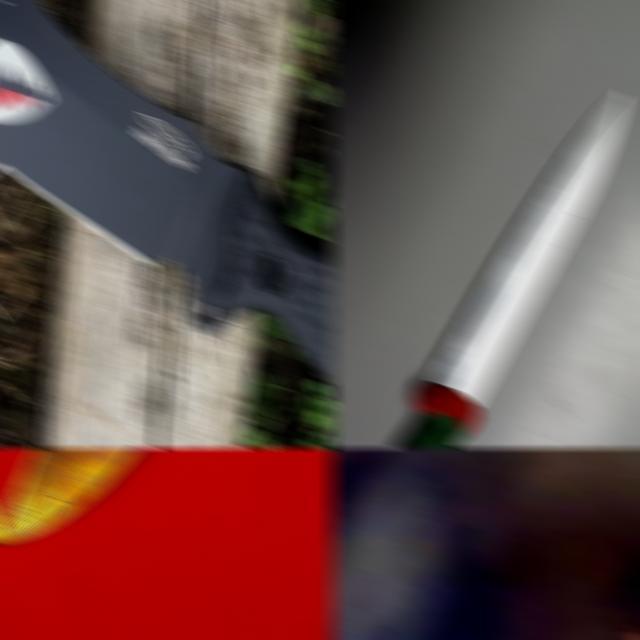Knife: (397, 91, 628, 449)
